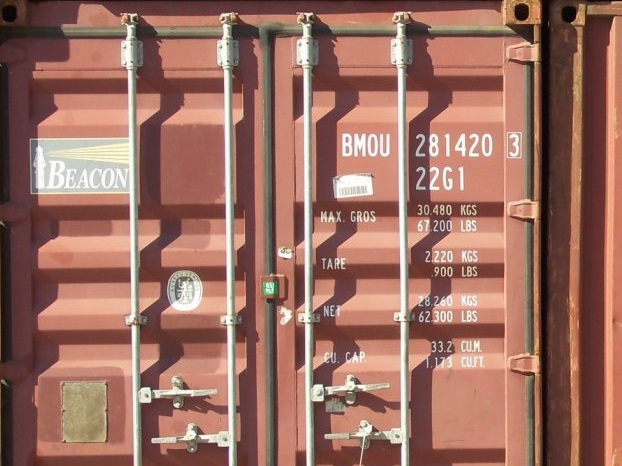container_door: (9, 5, 545, 466)
